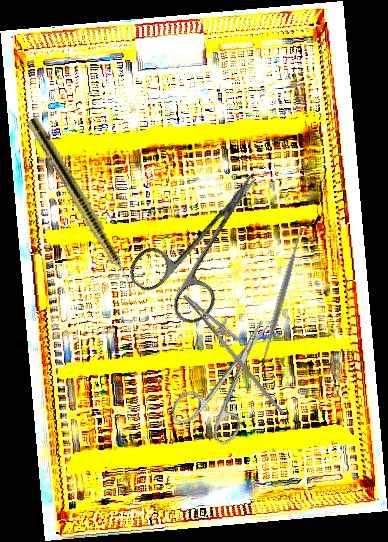Handpiece: (23, 115, 142, 297)
Iris Scissors: (122, 150, 293, 332), (166, 305, 297, 453)
Needle Holder: (169, 284, 306, 416)
Spatula Surgical: (253, 223, 310, 369)
